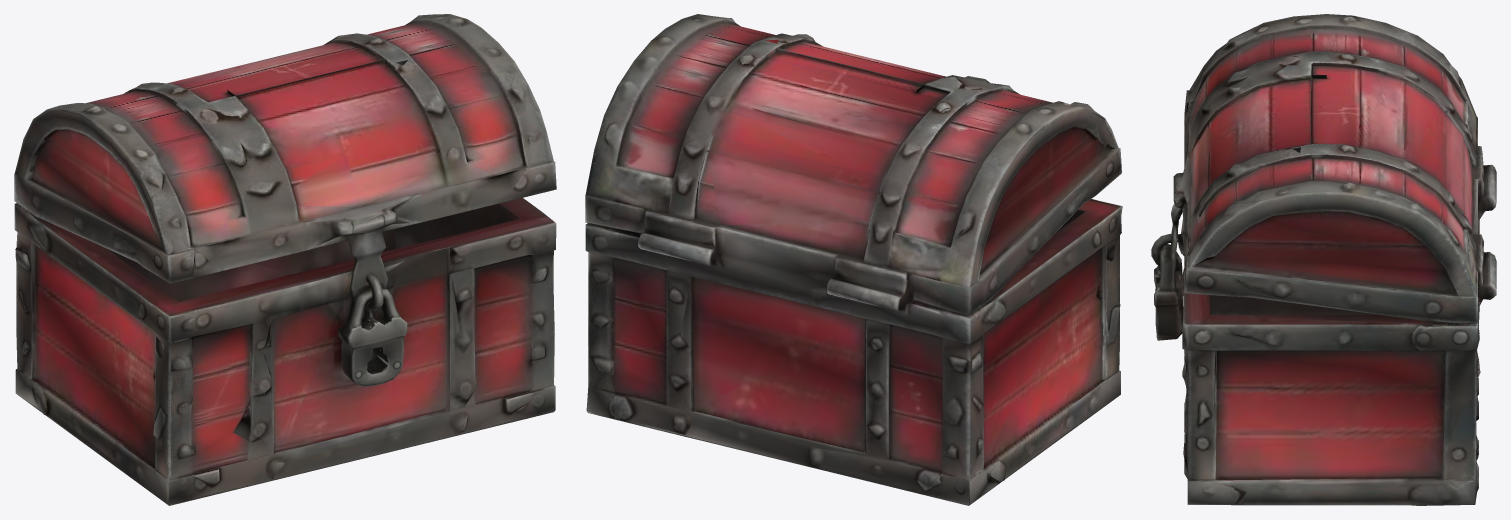
3 views of the same model, side by side, from view 1: azimuth 30°, elevation 25°; view 2: azimuth 150°, elevation 25°; view 3: azimuth 270°, elevation 25° (orthographic). The views are drawn at different scales.
Bounding box in the file's own units: 2 × 1.62 × 1.6.
Materials: 1 (1 with a texture image).
